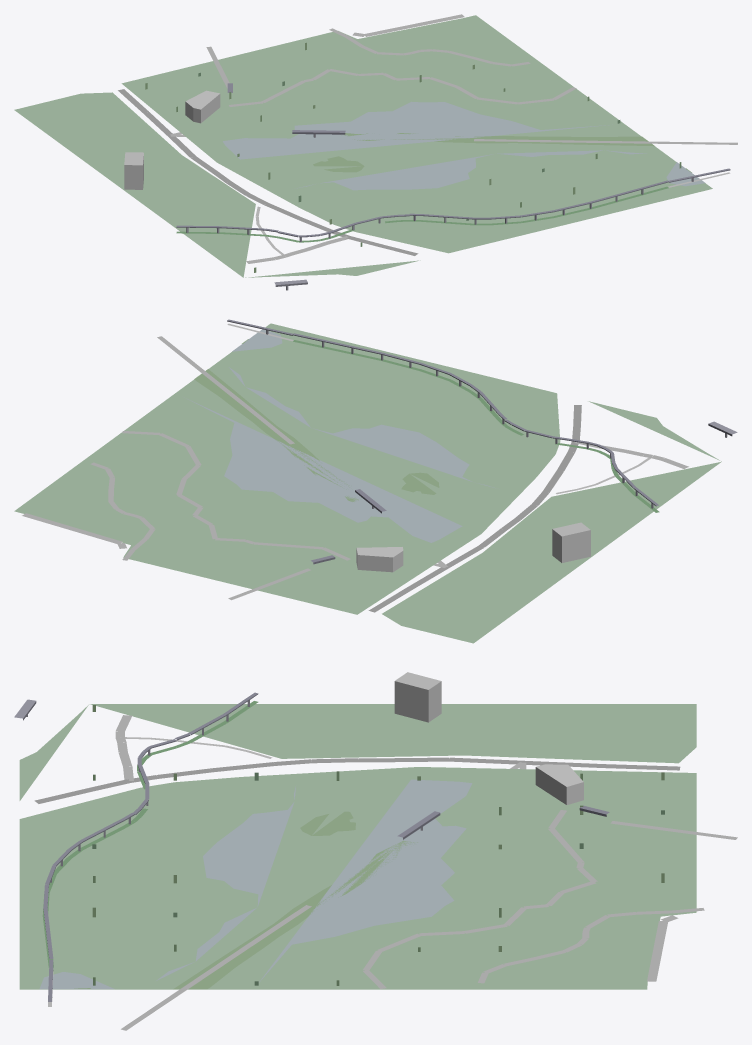
3 views of the same model, one above another, from view 1: azimuth 30°, elevation 25°; view 2: azimuth 150°, elevation 25°; view 3: azimuth 270°, elevation 25° (orthographic). The views are drawn at different scales.
Size of the model in its own units: 579 by 26.7 by 535.
